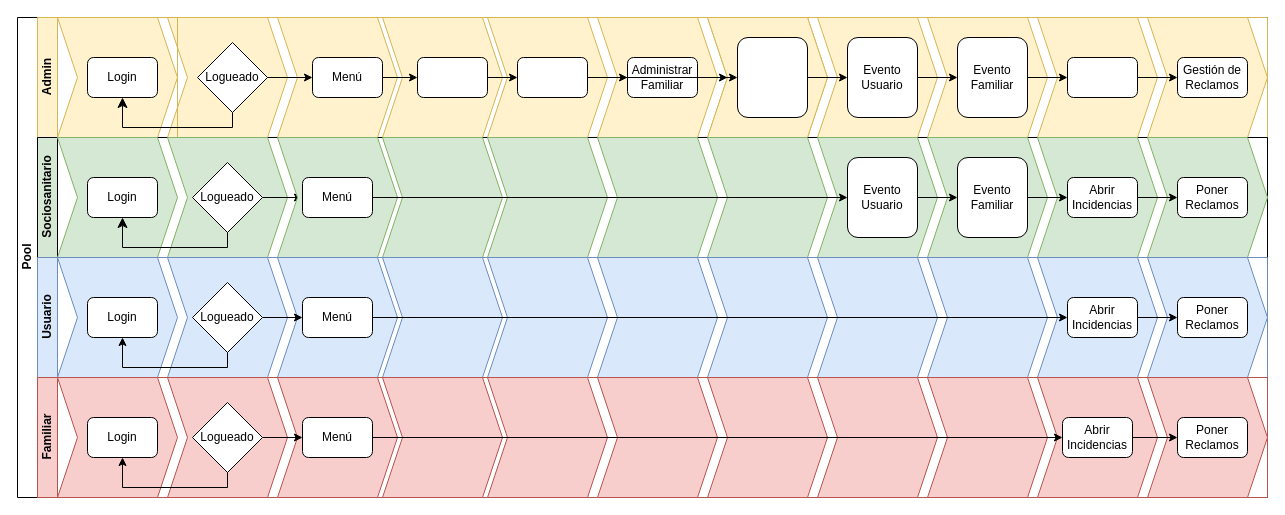
This 1285x515 diagram has some shape labels left out. Here are the shapes that lost their labels. From the top down, the centre of each, then its label:
point (452, 77): Administrar Sociosanit
point (552, 77): Administrar Usuario
point (772, 77): Evento Sociosanit
point (1102, 77): Administrar Incidencias
